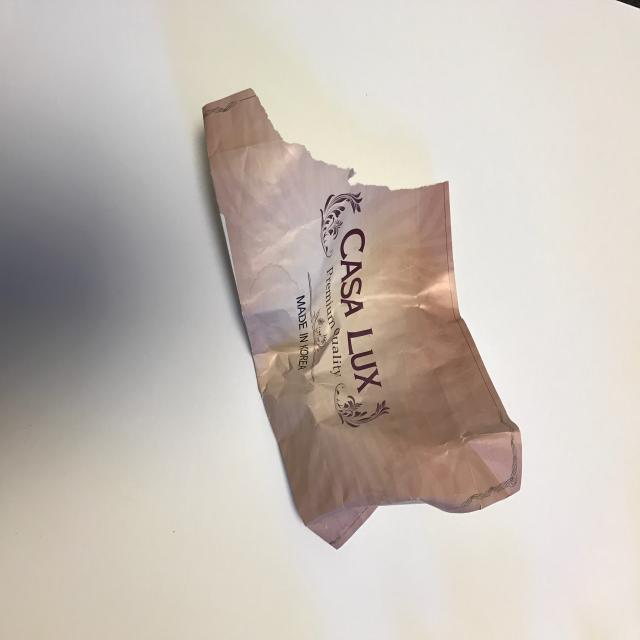paper: (199, 84, 528, 542)
